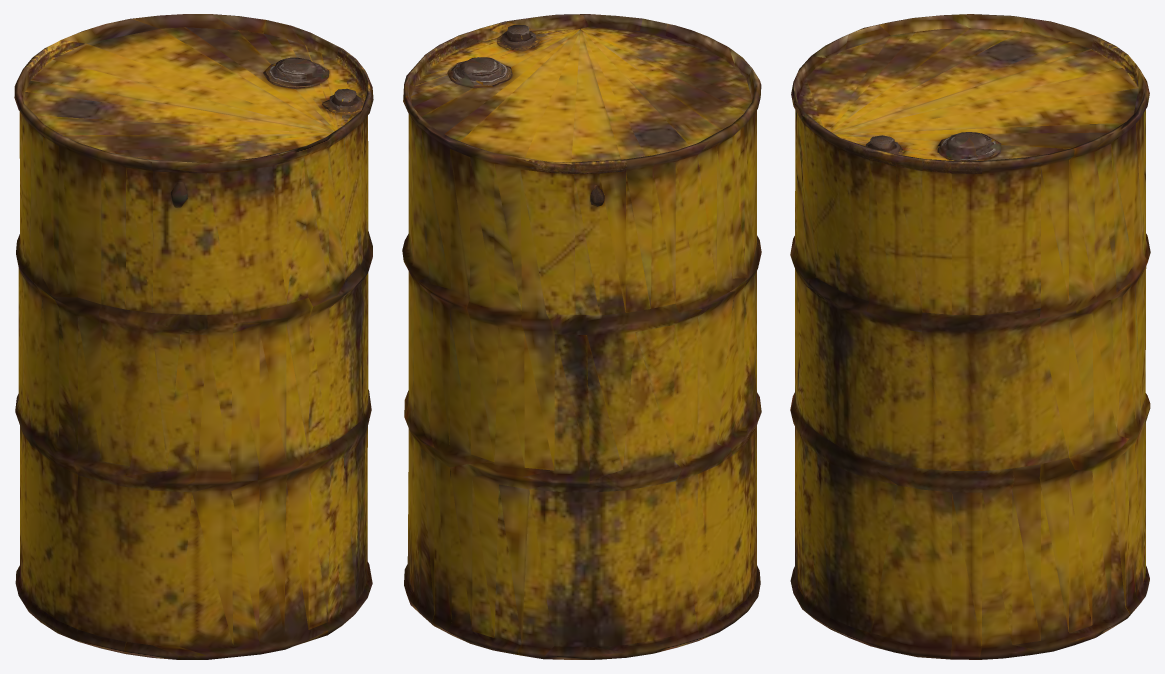
The model's file is salvage-rusty_barrel_prop.glb.
3 views of the same model, side by side, from view 1: azimuth 30°, elevation 25°; view 2: azimuth 150°, elevation 25°; view 3: azimuth 270°, elevation 25° (orthographic).
Parts seen in each view (by area): view 1: Meshy_AI_rusty_barrel_prop_3d_20261028_texture; view 2: Meshy_AI_rusty_barrel_prop_3d_20261028_texture; view 3: Meshy_AI_rusty_barrel_prop_3d_20261028_texture.
Boxes of the visible parts, left/top/right/bottom form: Meshy_AI_rusty_barrel_prop_3d_20261028_texture: left=14, top=14, right=373, bottom=659; Meshy_AI_rusty_barrel_prop_3d_20261028_texture: left=402, top=14, right=761, bottom=659; Meshy_AI_rusty_barrel_prop_3d_20261028_texture: left=790, top=14, right=1150, bottom=659.
Size of the model in its own units: 0.5883 by 0.9 by 0.5901.
Materials: 1 (1 with a texture image).
